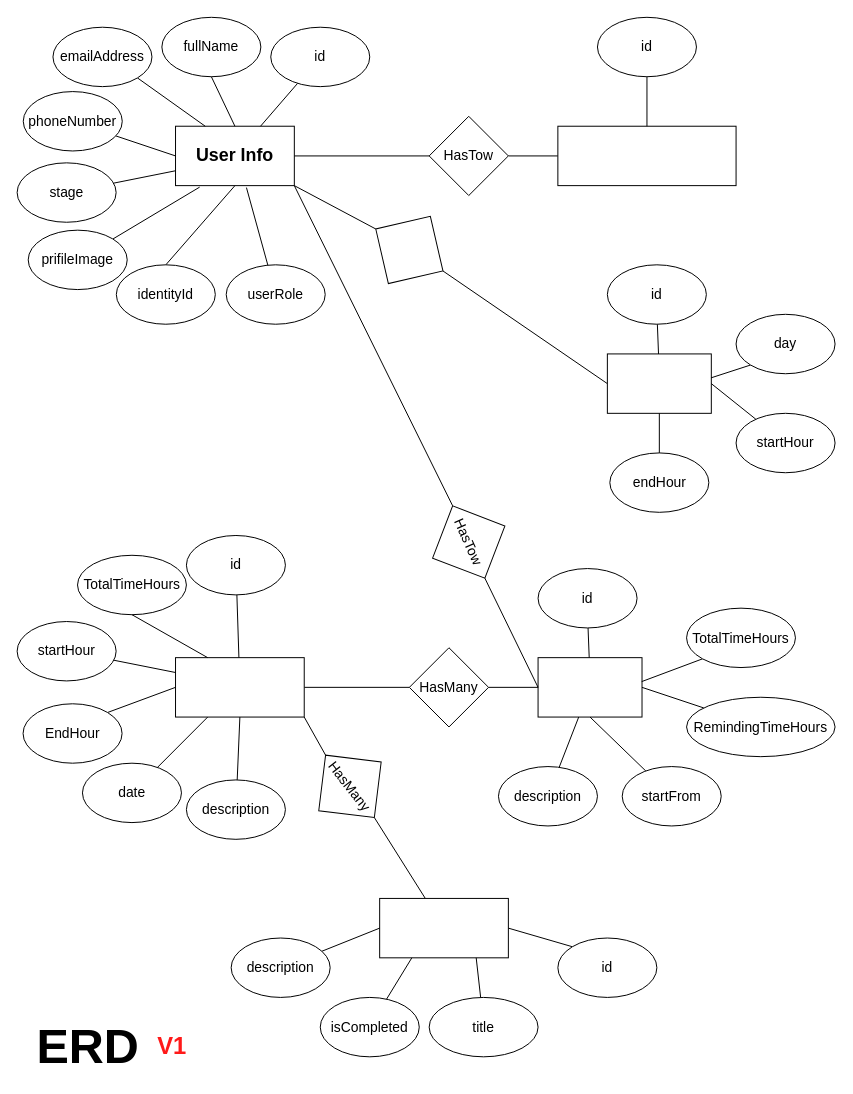
The diagram is 853 pixels wide and 1094 high, and some of its shapes have lost their labels. The shapes that lost their labels are listed below. From the top down, each one's centre as x and y in pixels, then its label:
At point 646,155: "StudentSupervisor".
At point 409,249: "HasOne".
At point 658,383: "DayFree".
At point 239,687: "Meetings".
At point 589,687: "supervdion Interval".
At point 443,927: "MeetingTasls".
